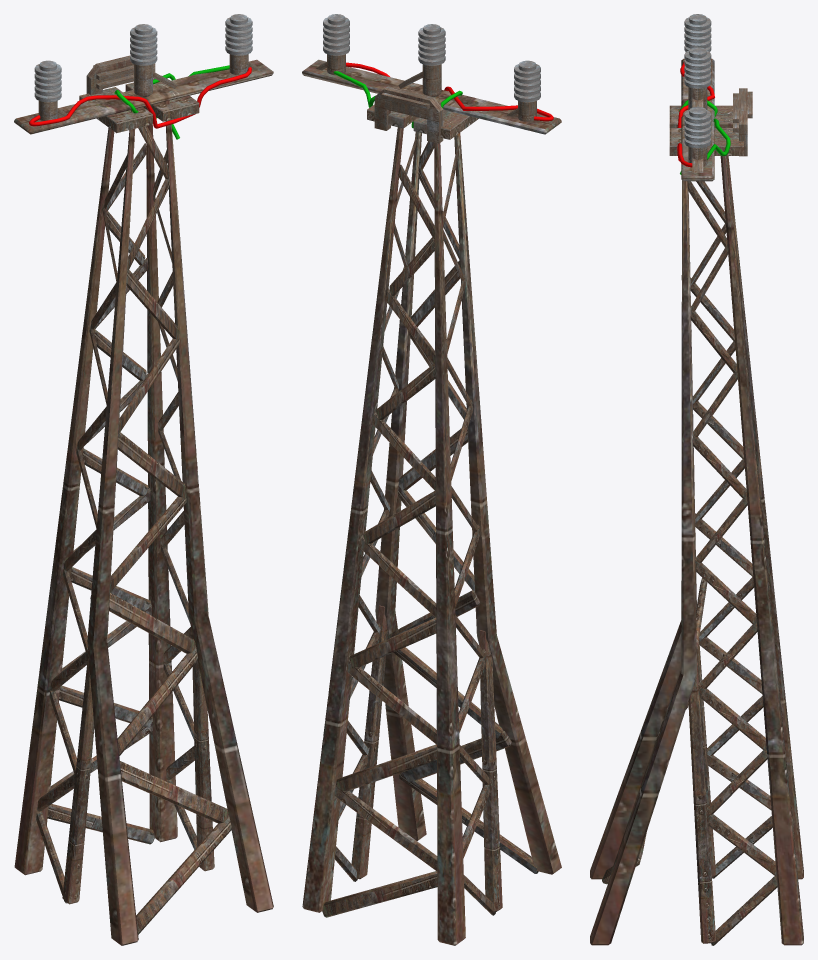
File: static.fbx
The picture shows the model from 3 angles, left to right: view 1: azimuth 30°, elevation 25°; view 2: azimuth 150°, elevation 25°; view 3: azimuth 270°, elevation 25°; orthographic projection.
Visible parts, largest first — view 1: Cube_1_19, Cube_11, Cube_Instance, Cube_24, Cube_5, Cube_1_2, Cube_6, Cube_2_3, Cube_1_3, Cube_7, Cube_1_4, Cube_8 (+21 smaller); view 2: Cube_1_19, Cube_11, Cube_Instance, Cube_24, Cube_5, Cube_12, Cube_4, Cube_1_7, Cube_13, Cube_14, Cube_1_8, Cube_2_3 (+24 smaller); view 3: Cube_1_19, Cube_Instance, Cube_11, Cube_24, Cube_1_13, Cube_1_14, Cube_1_15, Cube_18, Cube_2_3, Cube_19, Cube_1_16, Cube_5 (+7 smaller).
Part boxes in pixels (x1=…): Cube_1_19: x1=14, y1=124, x2=177, y2=875; Cube_11: x1=87, y1=110, x2=138, y2=945; Cube_Instance: x1=164, y1=100, x2=273, y2=912; Cube_24: x1=62, y1=631, x2=214, y2=904; Cube_5: x1=14, y1=59, x2=273, y2=134; Cube_1_2: x1=120, y1=761, x2=229, y2=823; Cube_6: x1=136, y1=817, x2=231, y2=934; Cube_2_3: x1=79, y1=75, x2=199, y2=133; Cube_1_3: x1=90, y1=593, x2=195, y2=653; Cube_7: x1=117, y1=647, x2=197, y2=756; Cube_1_4: x1=118, y1=432, x2=186, y2=499; Cube_8: x1=110, y1=496, x2=186, y2=592; Cube_1_19: x1=302, y1=127, x2=465, y2=945; Cube_11: x1=454, y1=133, x2=561, y2=874; Cube_Instance: x1=375, y1=131, x2=426, y2=840; Cube_24: x1=351, y1=605, x2=502, y2=912; Cube_5: x1=302, y1=59, x2=561, y2=134; Cube_12: x1=322, y1=871, x2=437, y2=917; Cube_4: x1=374, y1=86, x2=443, y2=143; Cube_1_7: x1=334, y1=785, x2=437, y2=871; Cube_13: x1=336, y1=744, x2=436, y2=790; Cube_14: x1=349, y1=617, x2=436, y2=668; Cube_1_8: x1=347, y1=660, x2=436, y2=744; Cube_2_3: x1=367, y1=104, x2=478, y2=139; Cube_1_19: x1=720, y1=156, x2=803, y2=945; Cube_Instance: x1=590, y1=180, x2=697, y2=945; Cube_11: x1=590, y1=191, x2=696, y2=879; Cube_24: x1=688, y1=639, x2=715, y2=943; Cube_1_13: x1=707, y1=755, x2=776, y2=876; Cube_1_14: x1=698, y1=632, x2=766, y2=750; Cube_1_15: x1=695, y1=513, x2=756, y2=624; Cube_18: x1=711, y1=816, x2=777, y2=945; Cube_2_3: x1=669, y1=105, x2=743, y2=155; Cube_19: x1=707, y1=696, x2=767, y2=816; Cube_1_16: x1=692, y1=396, x2=746, y2=498; Cube_5: x1=681, y1=58, x2=714, y2=181.
Bounding box in the file's own units: 290 × 981 × 220.
5 materials, 5 textured.
